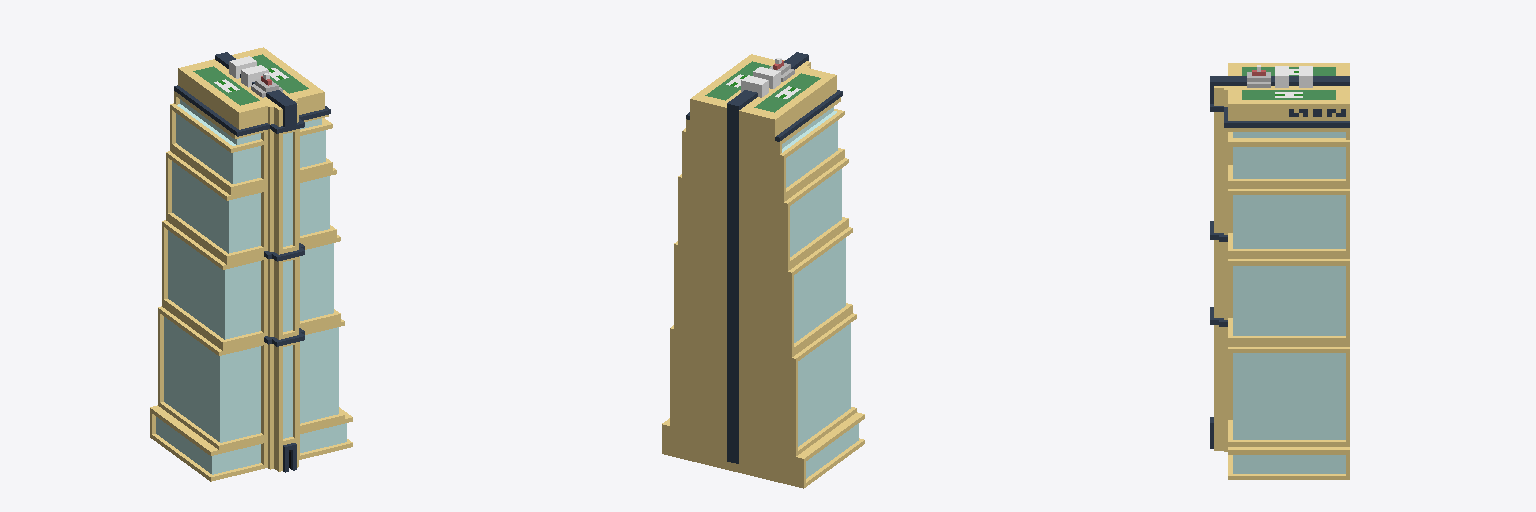
The picture shows the model from 3 angles: view 1: azimuth 30°, elevation 25°; view 2: azimuth 150°, elevation 25°; view 3: azimuth 270°, elevation 25°; orthographic projection.
Size of the model in its own units: 35 by 89 by 30.
1 materials, 1 textured.